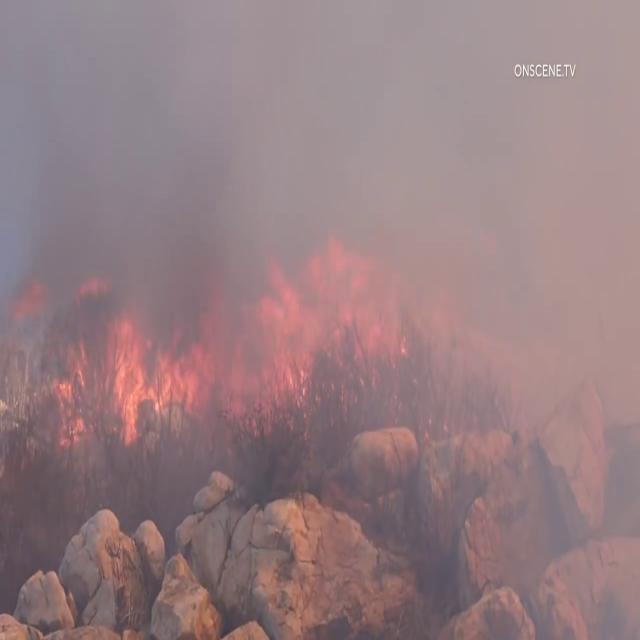Fire: (212, 271, 348, 428), (103, 301, 207, 446)
Smoke: (1, 1, 640, 622)
